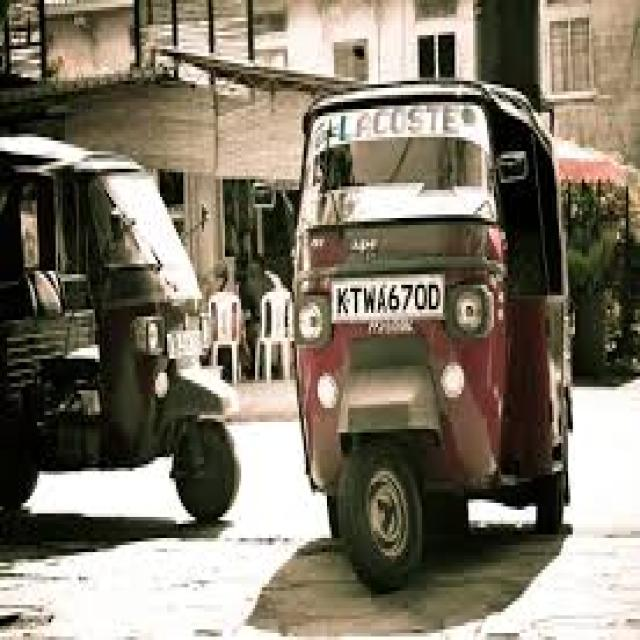tuktuk: (263, 15, 606, 628)
